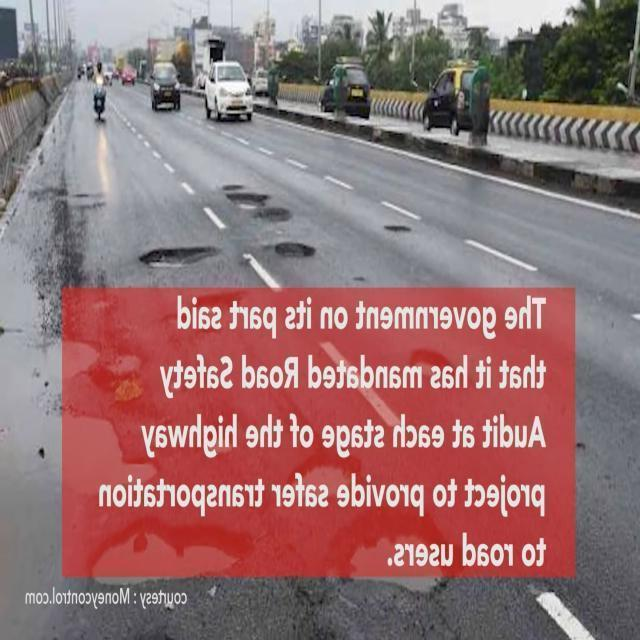Pothole: (95, 515, 251, 592), (344, 517, 454, 602), (12, 459, 159, 499), (281, 453, 363, 499), (7, 341, 99, 379), (135, 242, 218, 276), (411, 350, 458, 384), (270, 235, 317, 258), (227, 192, 267, 213), (255, 208, 290, 227), (384, 222, 416, 235)
